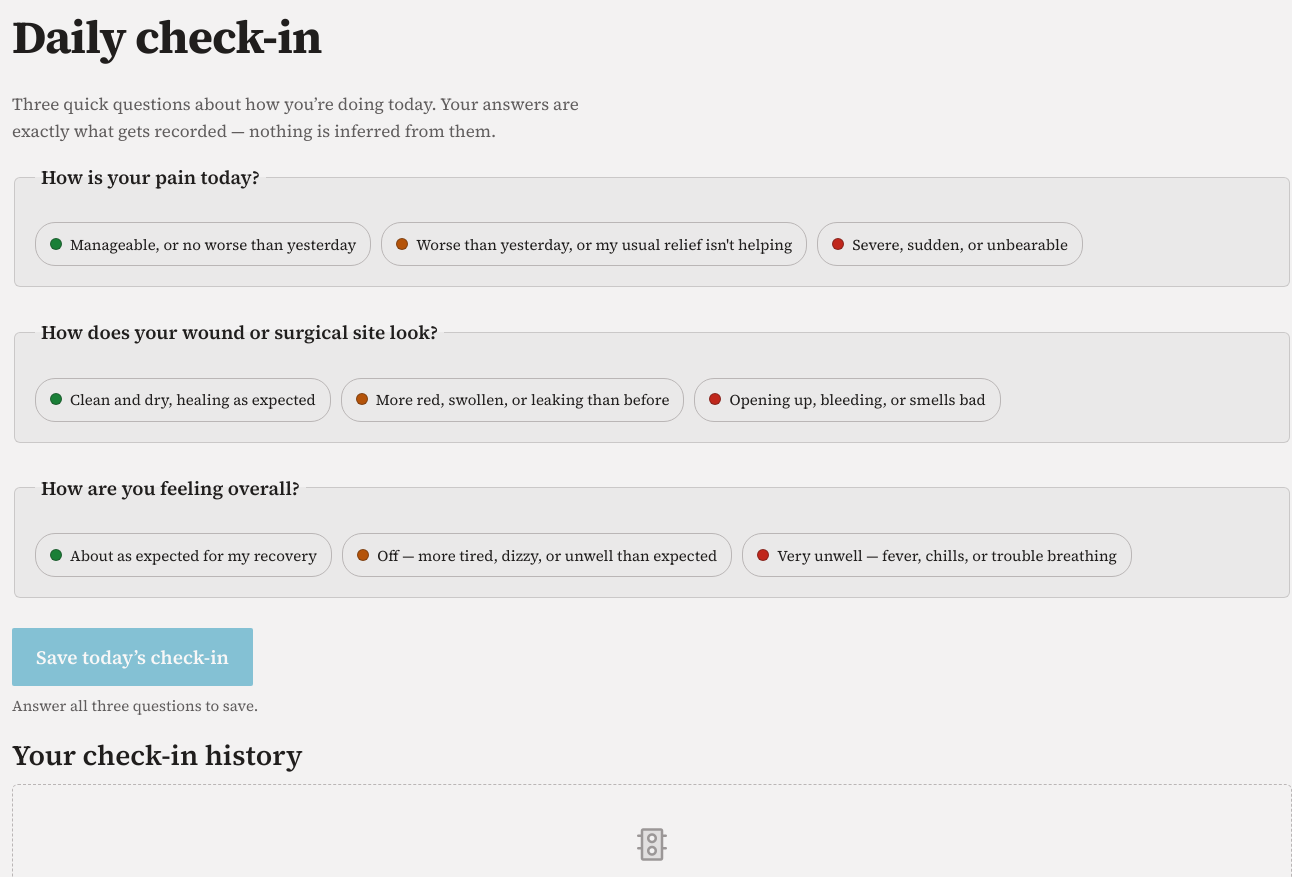
Test case: CheckIn screen › says plainly when nobody is in the care circle
Click the button "Severe, sudden, or unbearable".
click(950, 244)  # box top-left (817, 222), bottom-right (1083, 266)
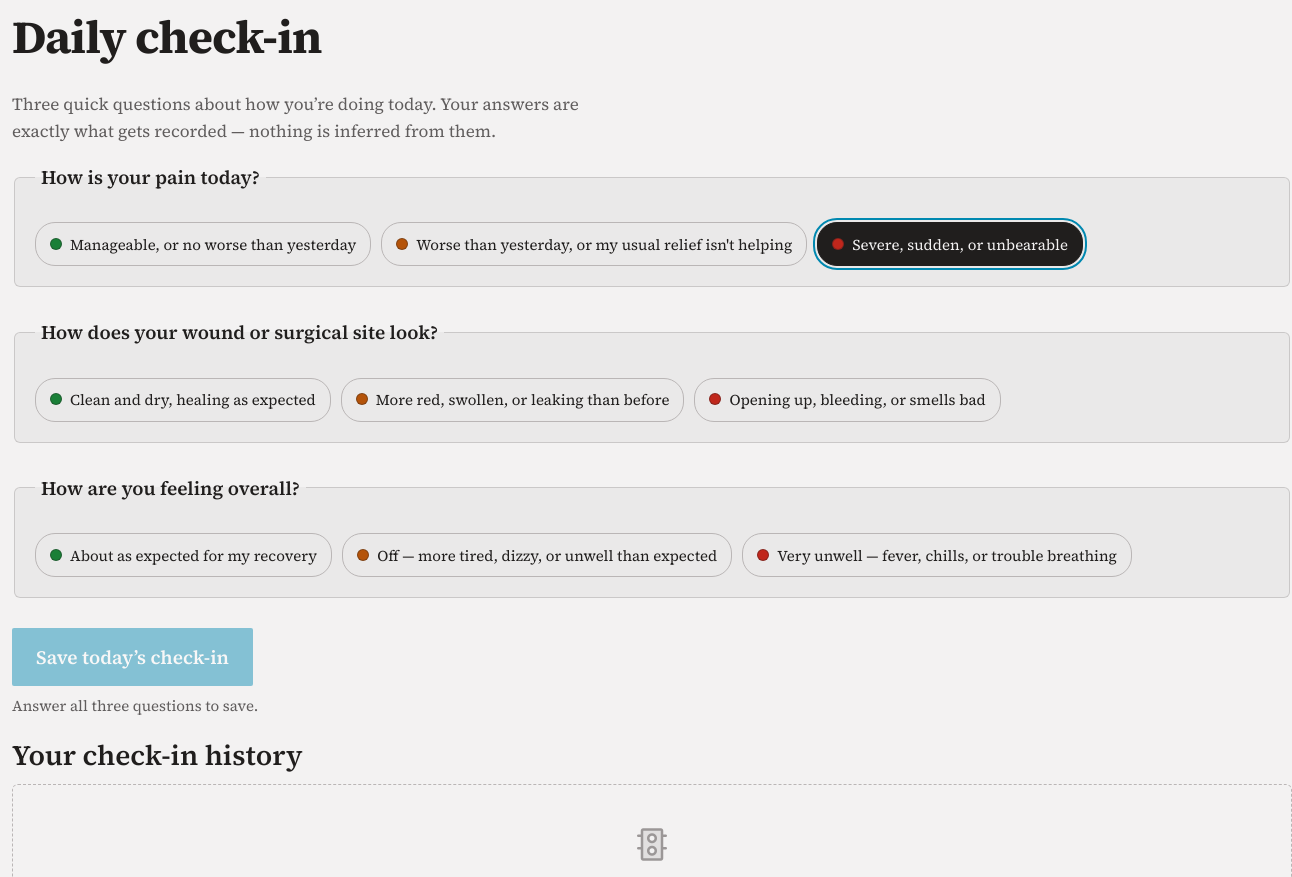
Click the button "Clean and dry, healing as expected".
click(183, 400)  # box top-left (35, 378), bottom-right (331, 422)
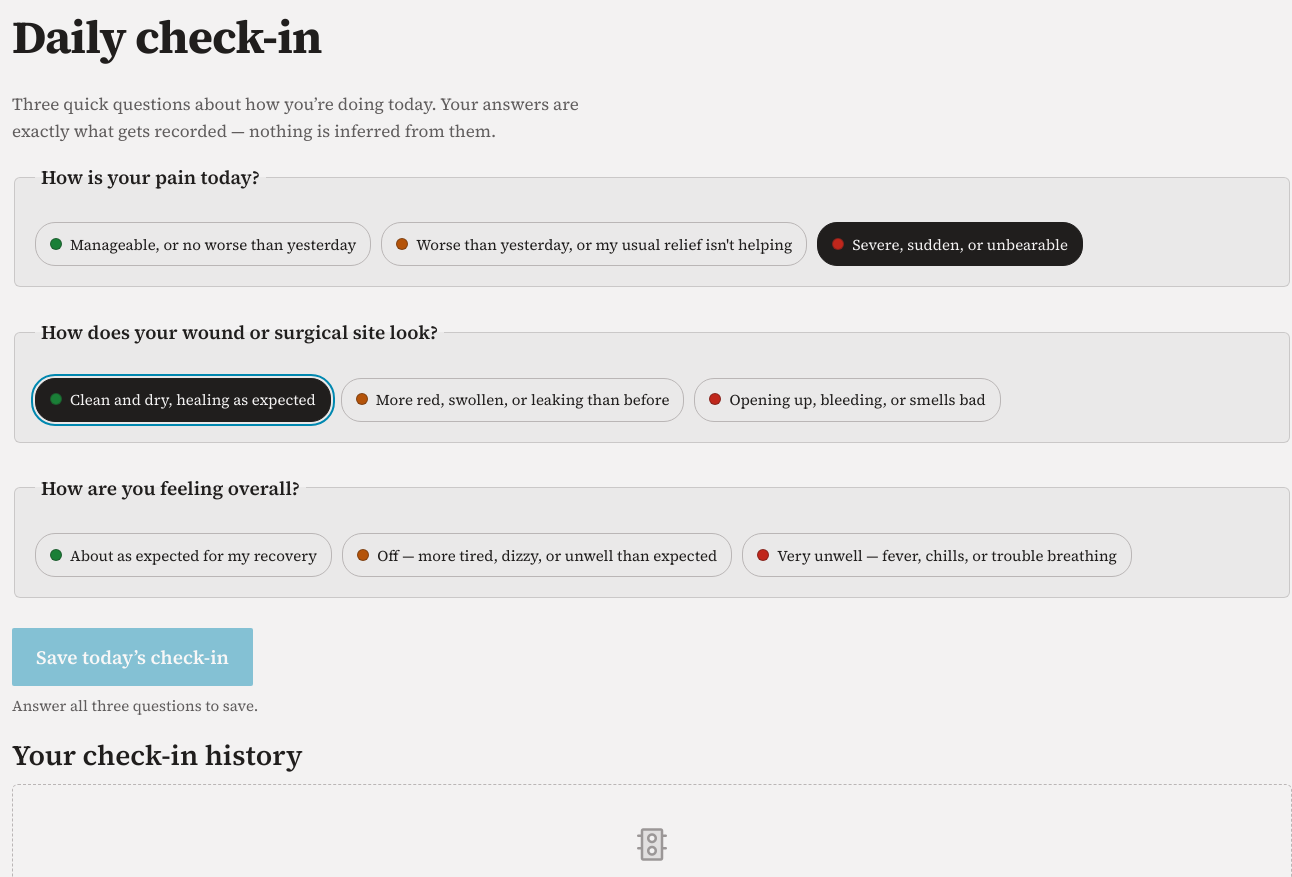
Click the button "About as expected for my recovery".
click(184, 555)  # box top-left (35, 533), bottom-right (332, 577)
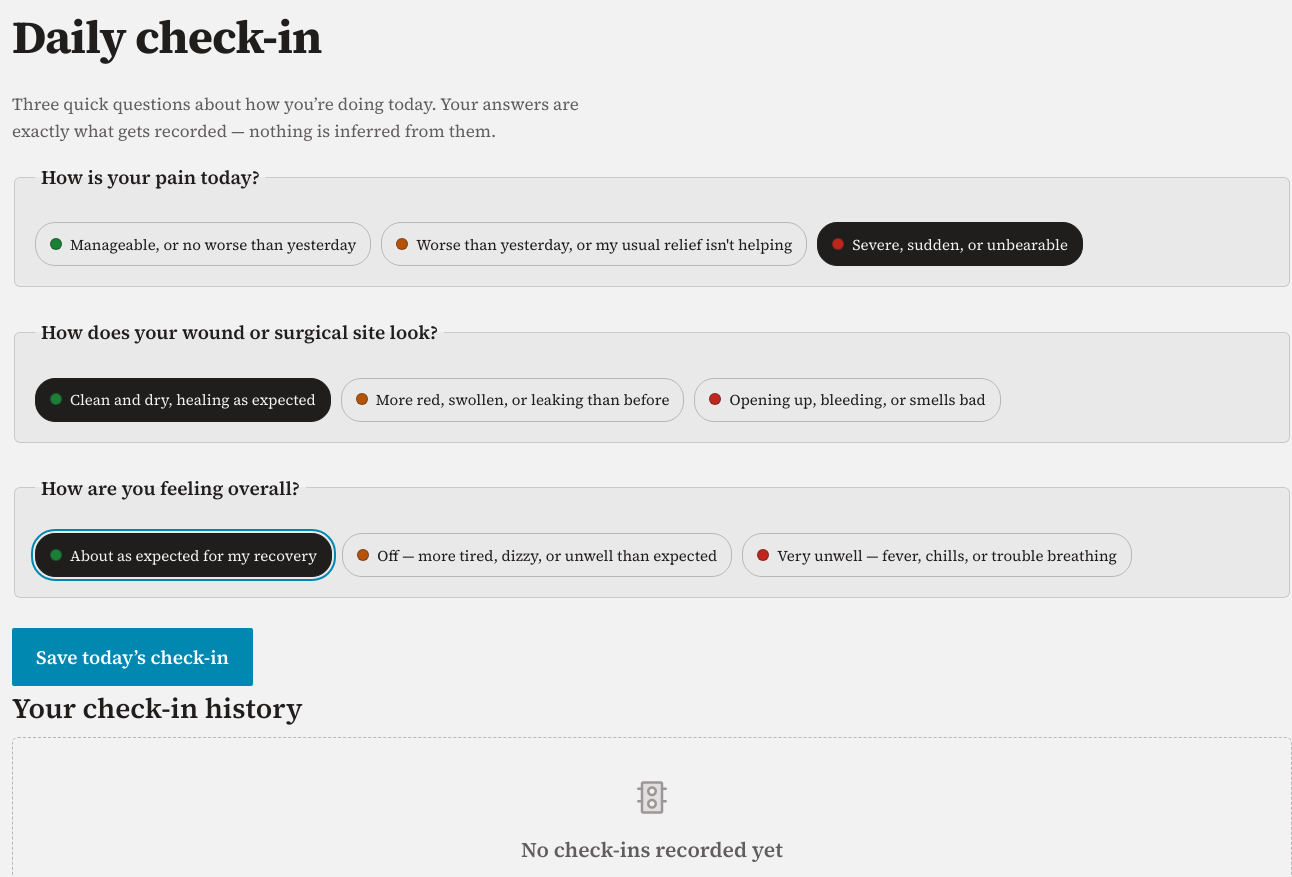
Click the button "Save today’s check-in".
click(132, 657)  # box top-left (12, 628), bottom-right (253, 686)
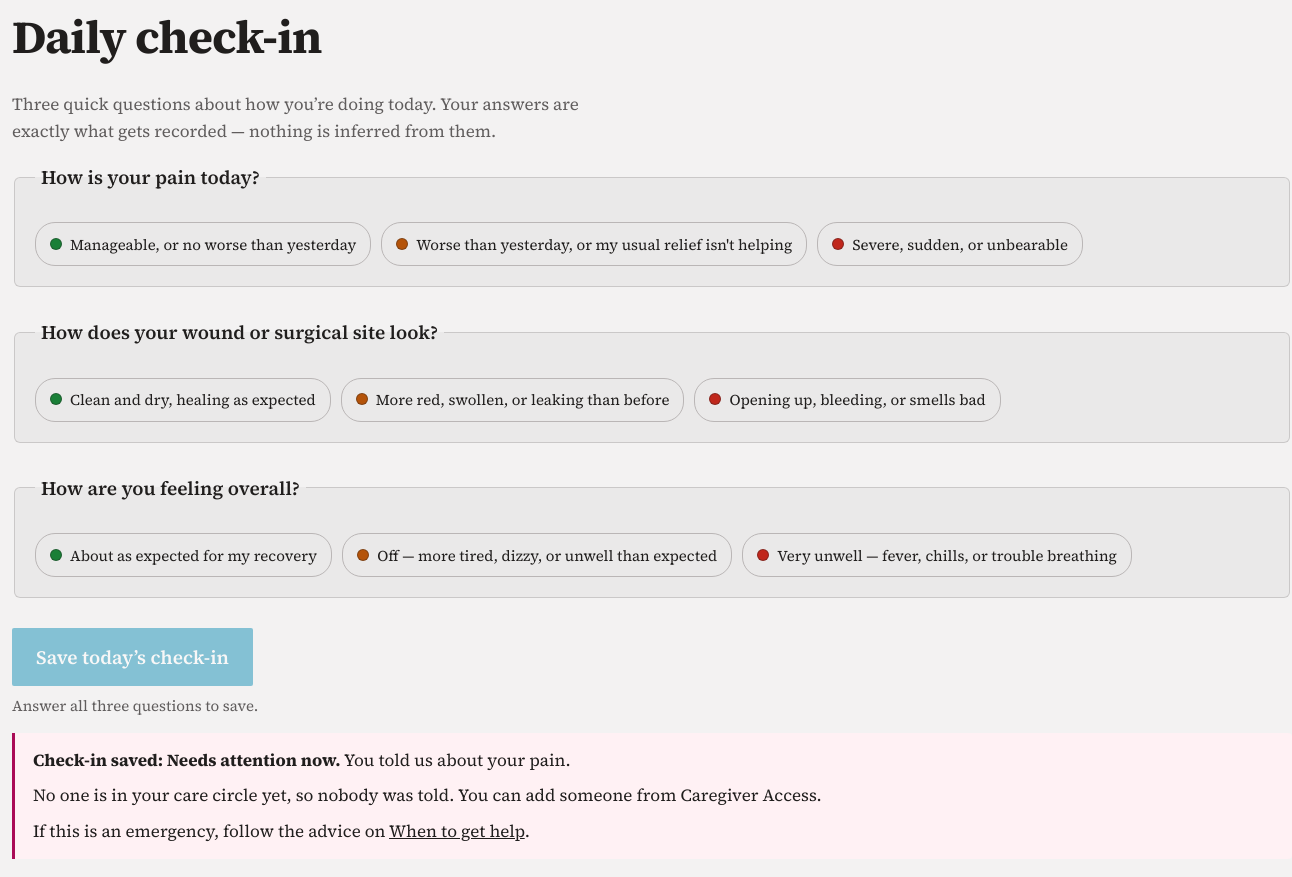
Check: the message shows "nobody was told", box top-left (33, 783), bottom-right (822, 807)
